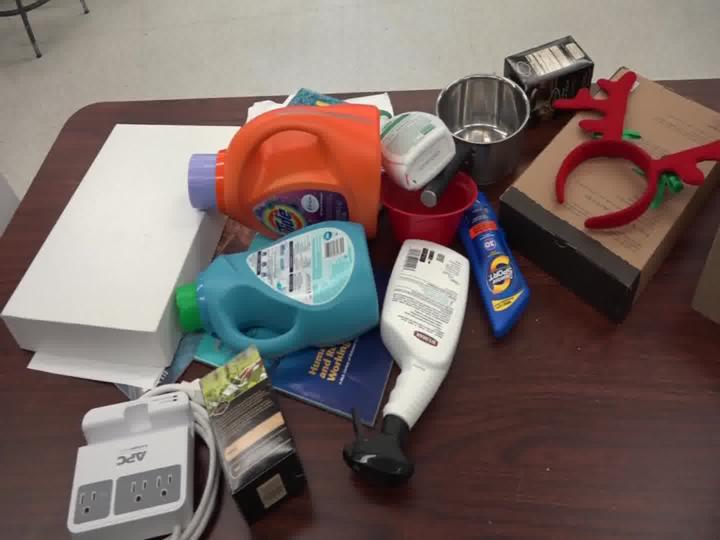downy: (159, 205, 382, 357)
